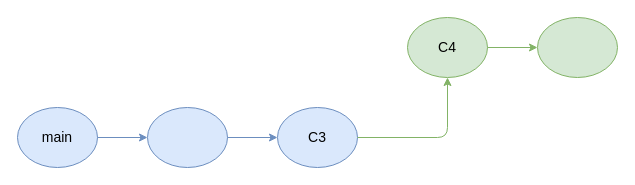
This 635x185 diagram has some shape labels left out. Each missing label, with the centre of its shape:
"C2" belongs at (187,137).
"C5" belongs at (577,47).
